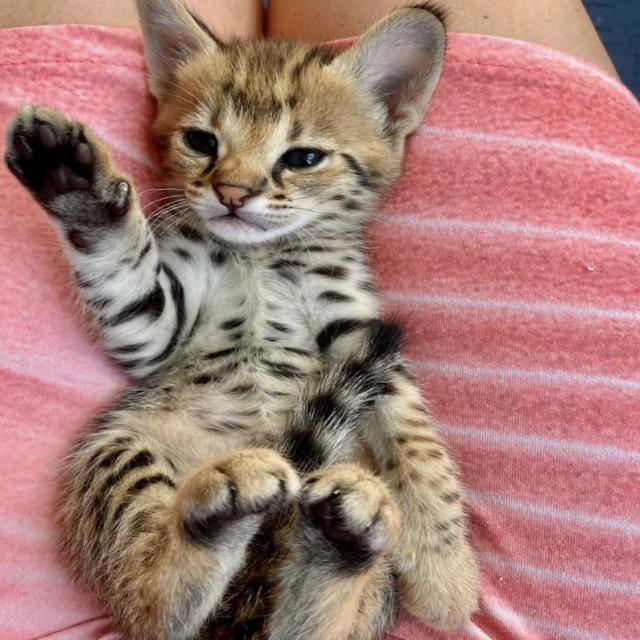Savannah: (0, 0, 488, 640)
